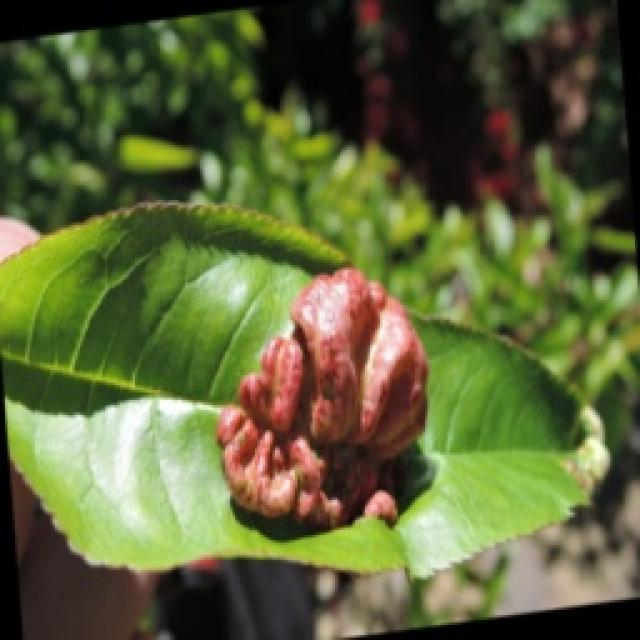peach_leaf_curl: (0, 194, 602, 577), (212, 265, 430, 533)
